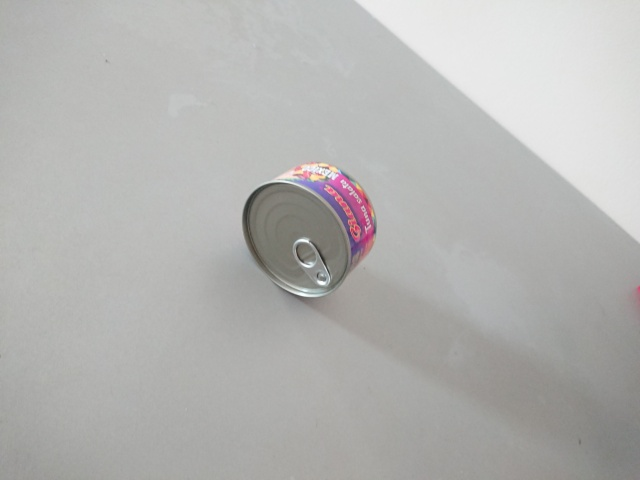Giana Tuna Salad Mexico 185g: (240, 159, 381, 305)
